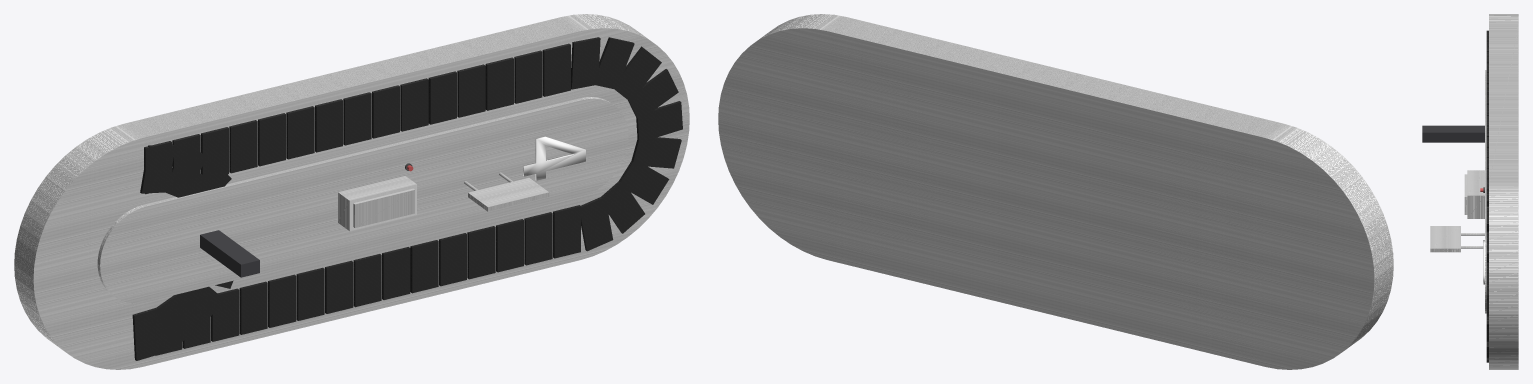
The model's file is Đảo nhận hành lý 4.glb.
The picture shows the model from 3 angles, left to right: view 1: azimuth 30°, elevation 25°; view 2: azimuth 150°, elevation 25°; view 3: azimuth 270°, elevation 25°; orthographic projection. The views are drawn at different scales.
Parts seen in each view (by area): view 1: conveyor_belt, frame, center_platform, service_box, information_screen_frame, number_sign_body, number_node_4; view 2: frame; view 3: frame, number_sign_body, conveyor_belt, service_box, information_screen_frame, center_platform.
Boxes of the visible parts, box(x1,y1,x2,y2) form: conveyor_belt: box(132, 37, 682, 360); frame: box(14, 14, 689, 369); center_platform: box(97, 97, 628, 303); service_box: box(338, 176, 416, 231); information_screen_frame: box(464, 172, 549, 211); number_sign_body: box(200, 230, 259, 277); number_node_4: box(523, 136, 585, 180); frame: box(718, 14, 1393, 369); frame: box(1489, 14, 1518, 369); number_sign_body: box(1422, 125, 1484, 142); conveyor_belt: box(1486, 30, 1488, 362); service_box: box(1464, 170, 1484, 218); information_screen_frame: box(1430, 226, 1484, 252); center_platform: box(1485, 70, 1486, 313).
Bounding box in the file's own units: 18 × 6 × 3.
Materials: 8 (7 with a texture image).
